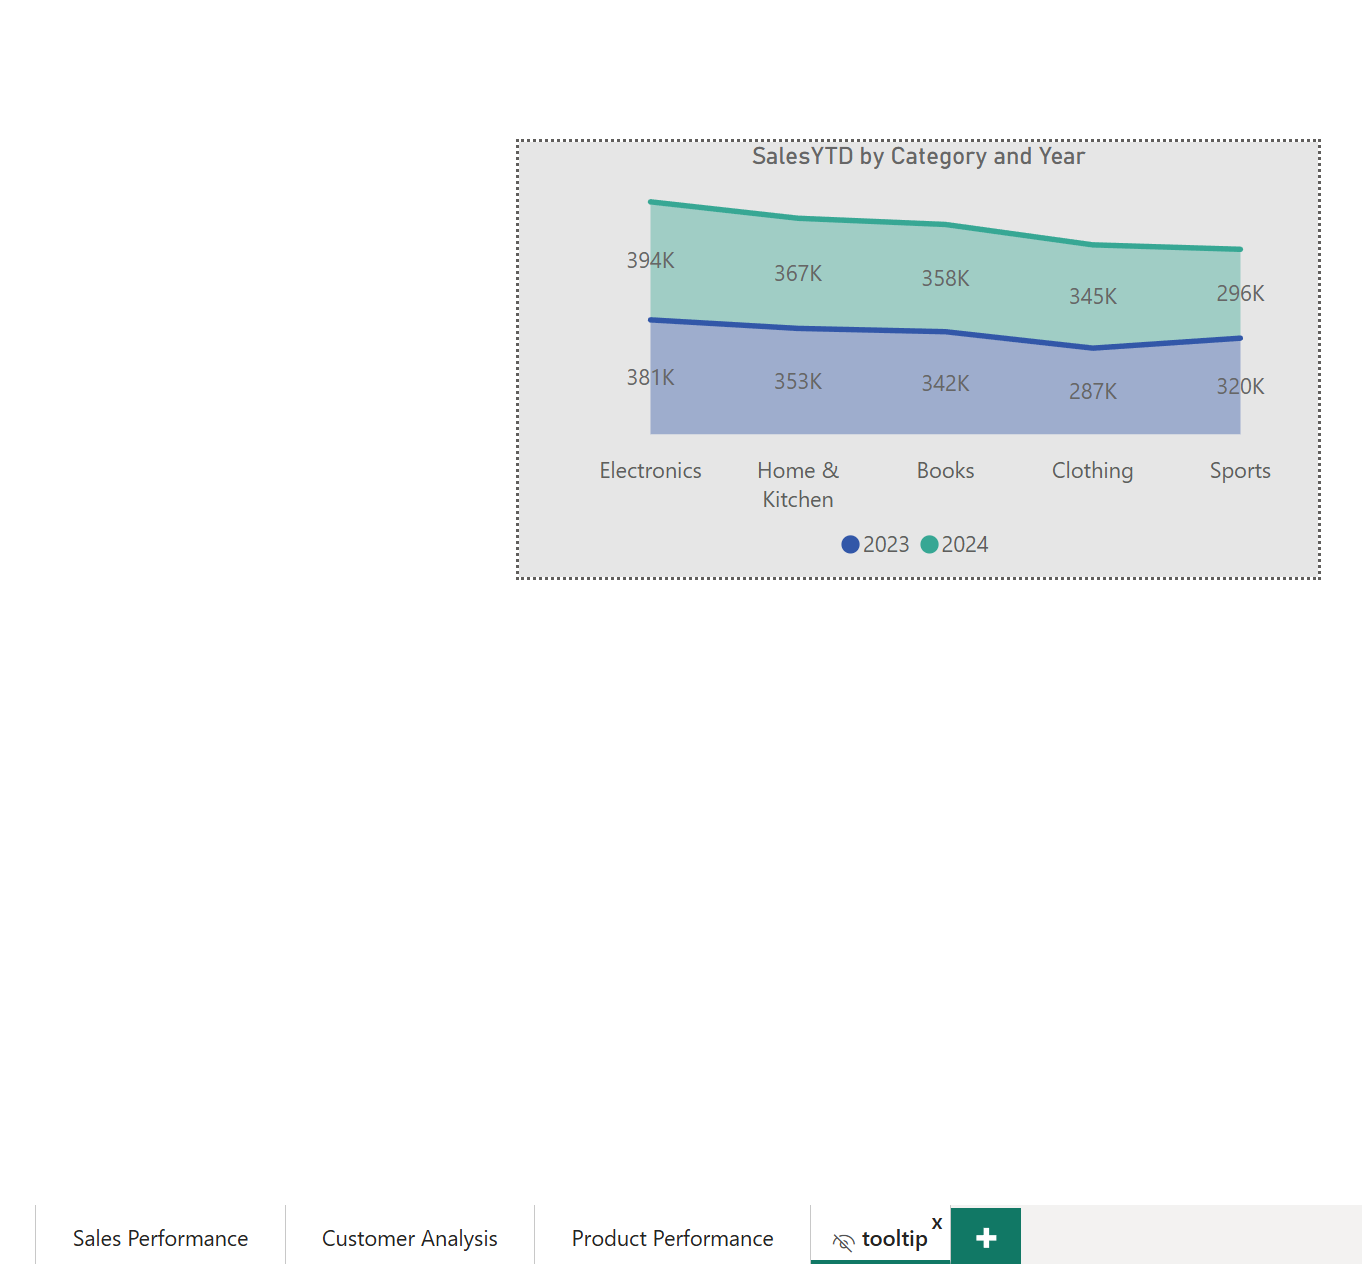

Layout of this report page (visuals, bound fields, positions):
{"tool":"powerbi","page":{"name":"tooltip","canvas":[440,240],"ordinal":4},"visuals":[{"type":"stackedAreaChart","fields":{"Category":["dim_product.Category"],"Y":["MeasureTable.SalesYTD"],"Series":["dim_date.Year"]},"box":[0,0,440,240],"z":0}]}

Visuals, with their boxes on the page's 440x240 design canvas (x1, y1, x2, y2). These are canvas units, not pixel positions in the 1362x1264 screenshot, which may show the page scaled, cropped or inside an application window:
stackedAreaChart - dim_product.Category x MeasureTable.SalesYTD: 0:0:440:240
